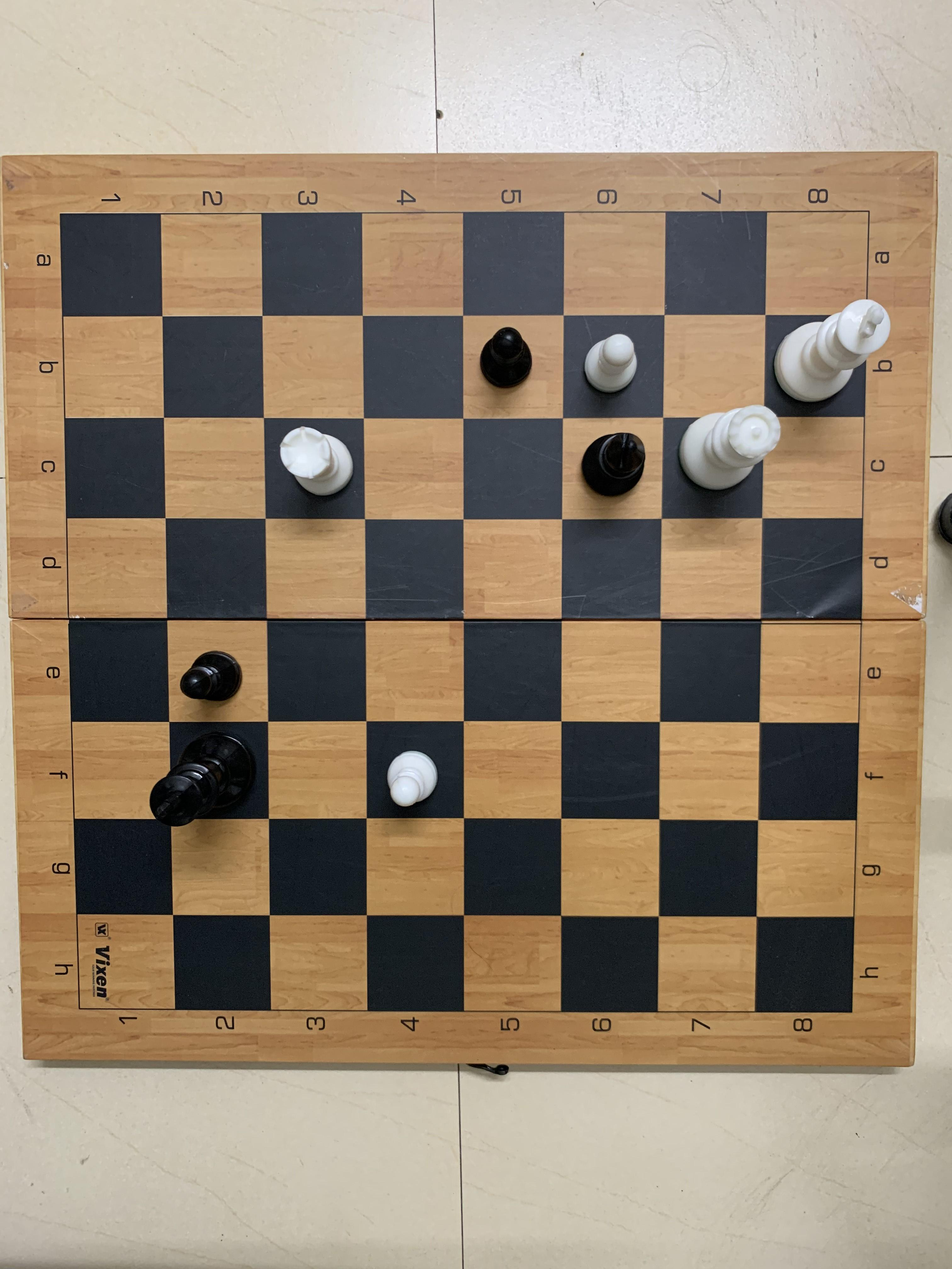black_bishop: (579, 425, 651, 504)
black_king: (131, 721, 284, 832)
black_pawn: (173, 645, 253, 705), (476, 323, 538, 394)
white_king: (771, 292, 893, 408)
white_pawn: (579, 331, 648, 399), (384, 738, 444, 812)
white_queen: (676, 403, 782, 500)
white_rook: (272, 423, 360, 503)
